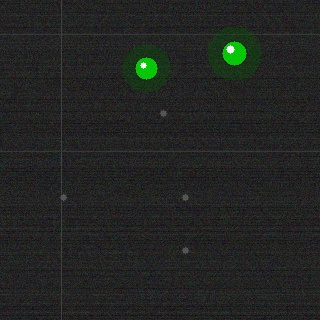green_normal: (220, 39, 248, 67), (133, 55, 159, 81)
